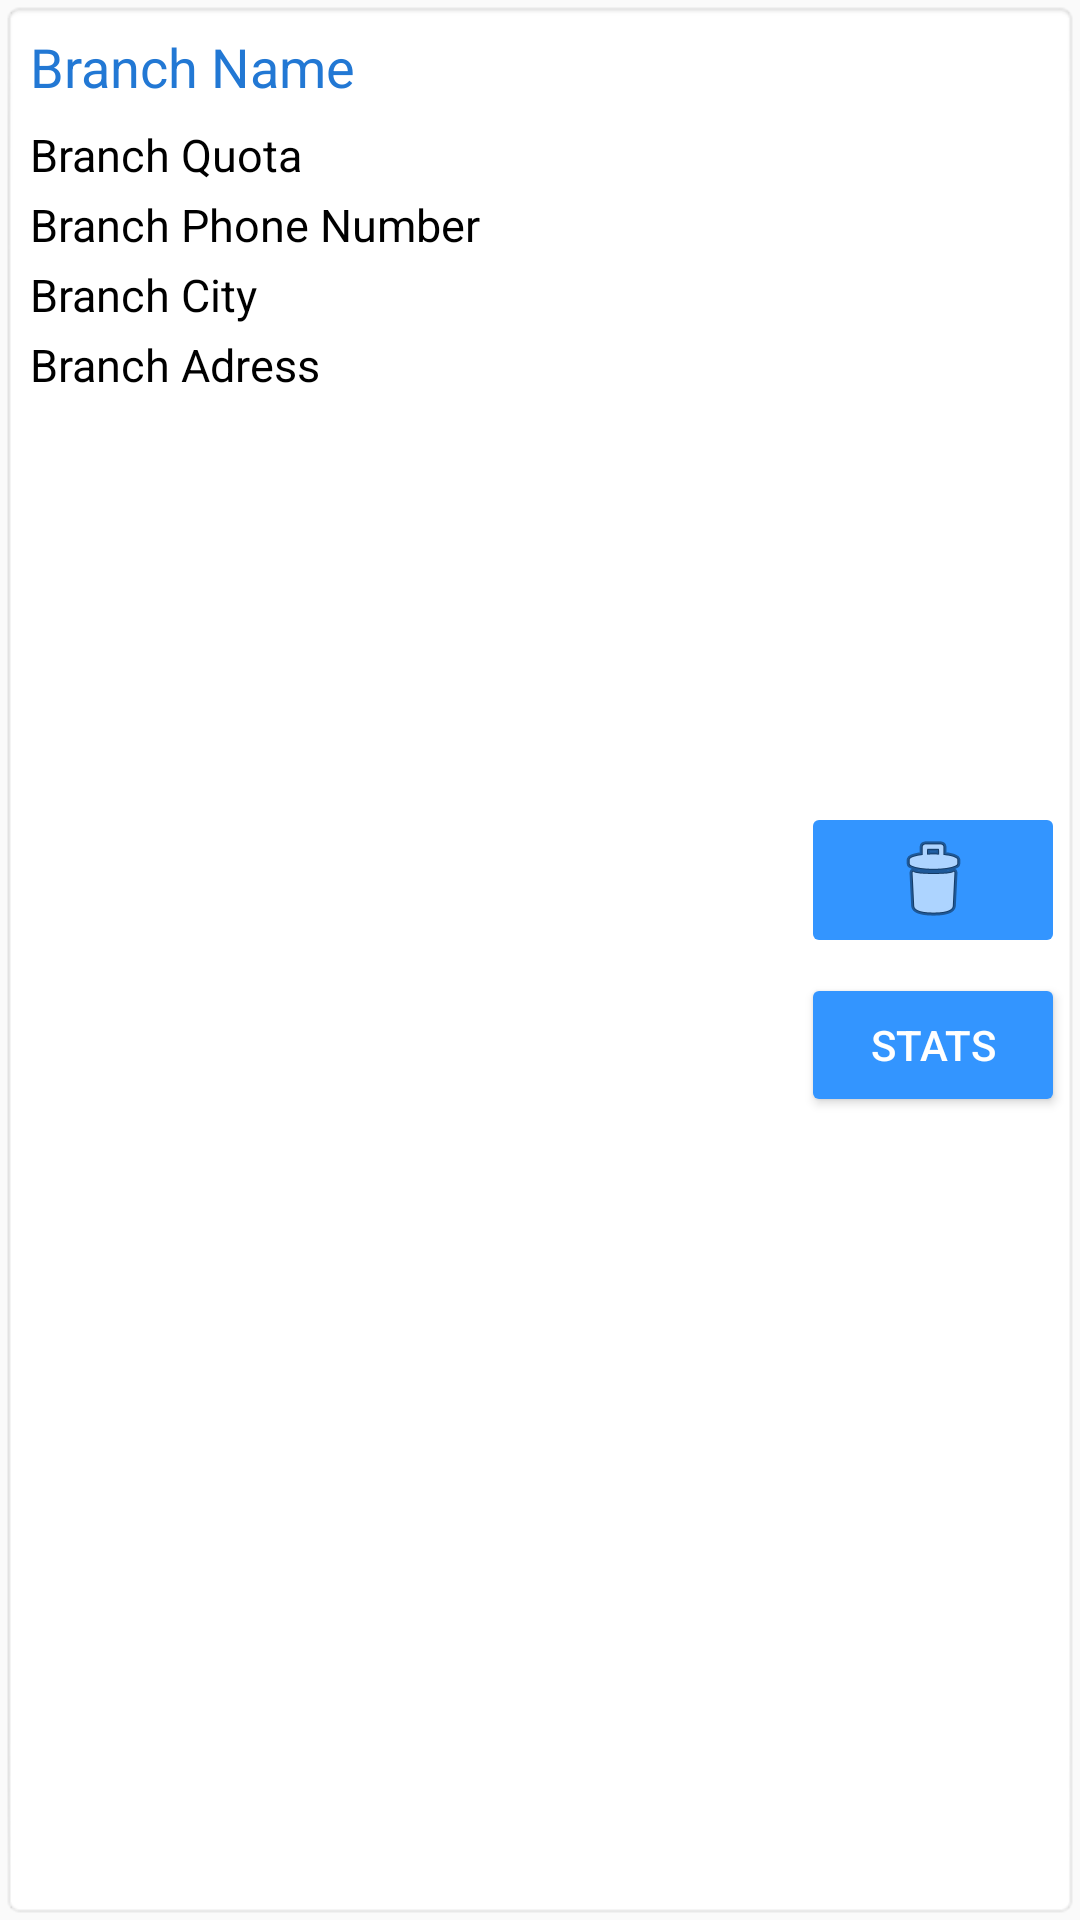

Icon click points for this 1080 x 1920 phone screenshot, format point (x, y):
delete: point (933, 880)
